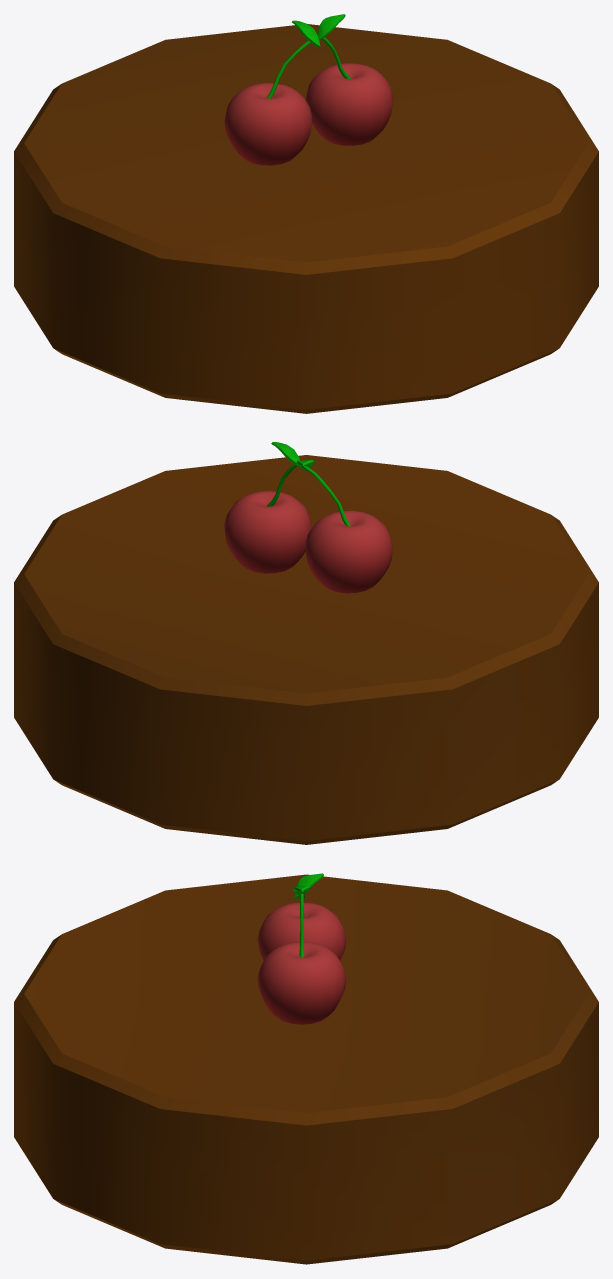
Rendered from Cake_1.fbx.
3 views of the same model, one above another, from view 1: azimuth 30°, elevation 25°; view 2: azimuth 150°, elevation 25°; view 3: azimuth 270°, elevation 25° (orthographic).
Parts seen in each view (by area): view 1: Cake_1; view 2: Cake_1; view 3: Cake_1.
Part boxes in pixels (left/top/right/bottom): Cake_1: left=14, top=14, right=598, bottom=413; Cake_1: left=14, top=442, right=598, bottom=844; Cake_1: left=14, top=873, right=598, bottom=1264.
Bounding box in the file's own units: 0.2606 × 0.1343 × 0.2606.
